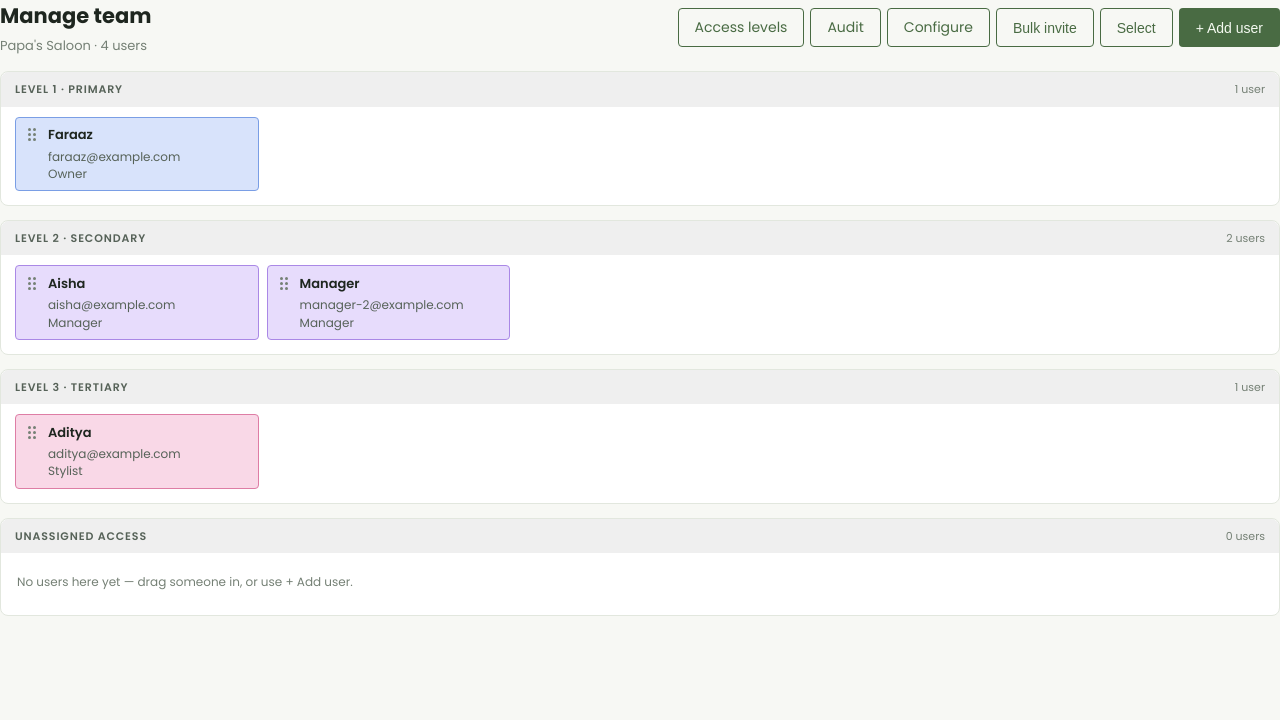
Scenario: UserManageTeam › does not hide another parent branch after clicking a sibling user card
Expected: the text "Aditya" is shown, top-left (48, 422), bottom-right (92, 442)
Click the button titled "manager-2@example.com": (388, 303) top-left (267, 265), bottom-right (510, 340)
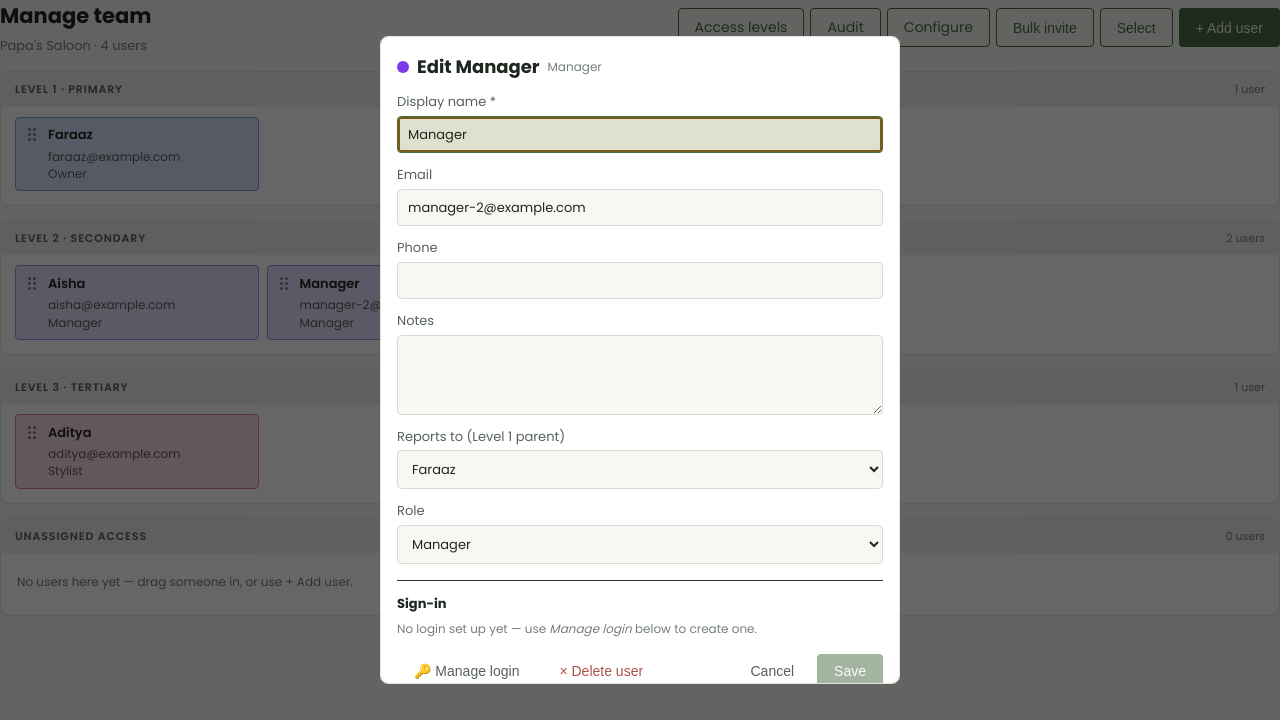
Expected: the text "Aditya" is shown, top-left (48, 422), bottom-right (92, 442)
Result: the heading "Edit Manager" is shown at top-left (417, 53), bottom-right (540, 80)
